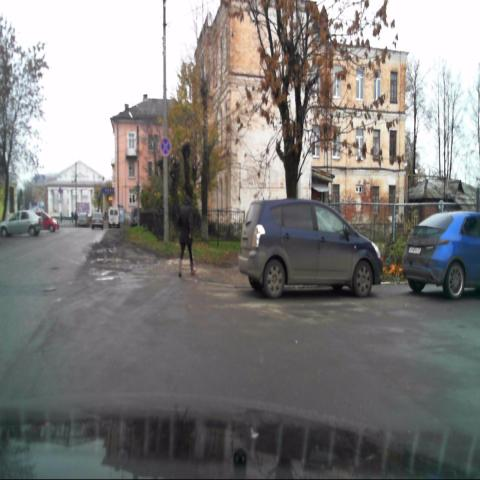3_27: (159, 135, 171, 157)
